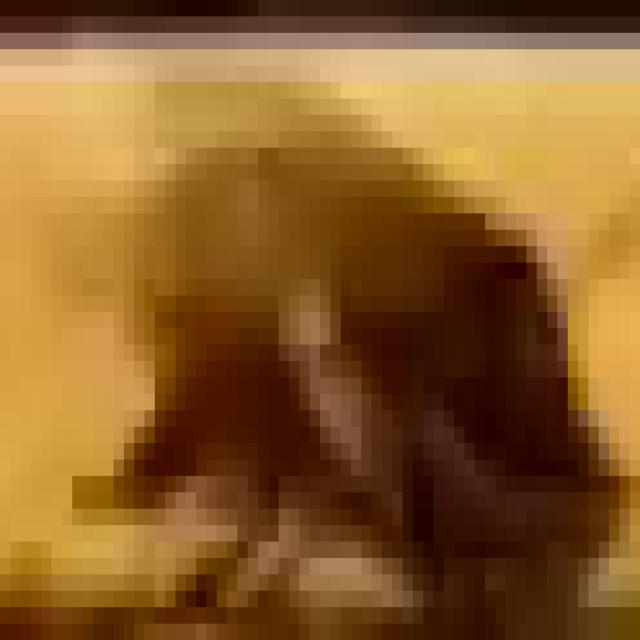honeybee: (99, 128, 613, 615)
